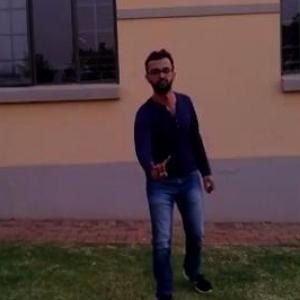takeoff-hand: (145, 146, 176, 182)
